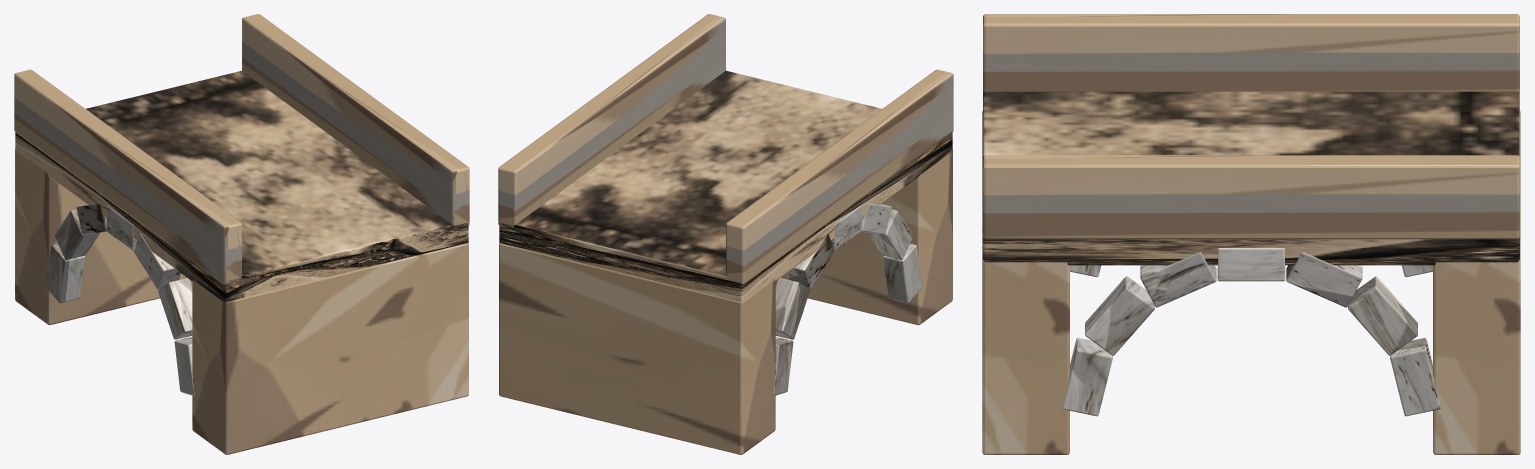
File: bridge_stone_6x4m_LOD1.glb
3 views of the same model, side by side, from view 1: azimuth 30°, elevation 25°; view 2: azimuth 150°, elevation 25°; view 3: azimuth 270°, elevation 25° (orthographic). The views are drawn at different scales.
Visible parts, largest first — view 1: LOD1_Deck, LOD1_Abutment, LOD1_Parapet, LOD1_Parapet.001, LOD1_Abutment.001, LOD1_Arch, LOD1_Arch.005, LOD1_Arch.001, LOD1_Arch.004, LOD1_Arch.006, LOD1_Arch.003, LOD1_Arch.002; view 2: LOD1_Deck, LOD1_Abutment.001, LOD1_Parapet, LOD1_Parapet.001, LOD1_Abutment, LOD1_Arch.006, LOD1_Arch.001, LOD1_Arch.005, LOD1_Arch.002, LOD1_Arch, LOD1_Arch.003, LOD1_Arch.004; view 3: LOD1_Deck, LOD1_Parapet.001, LOD1_Parapet, LOD1_Abutment, LOD1_Abutment.001, LOD1_Arch.008, LOD1_Arch.012, LOD1_Arch.007, LOD1_Arch.013, LOD1_Arch.009, LOD1_Arch.011, LOD1_Arch.010.
Boxes of the visible parts, x1,y1,x2,y2 form: LOD1_Deck: (15,70,468,302); LOD1_Abutment: (192,243,468,454); LOD1_Parapet: (14,69,241,284); LOD1_Parapet.001: (242,14,469,227); LOD1_Abutment.001: (15,149,192,325); LOD1_Arch: (45,243,85,303); LOD1_Arch.005: (158,278,192,339); LOD1_Arch.001: (54,209,99,260); LOD1_Arch.004: (134,233,180,289); LOD1_Arch.006: (174,336,194,395); LOD1_Arch.003: (106,206,136,250); LOD1_Arch.002: (76,203,106,234); LOD1_Deck: (499,70,952,303); LOD1_Abutment.001: (499,243,775,454); LOD1_Parapet: (726,69,953,284); LOD1_Parapet.001: (498,14,725,227); LOD1_Abutment: (775,149,952,325); LOD1_Arch.006: (882,243,922,303); LOD1_Arch.001: (775,278,809,339); LOD1_Arch.005: (868,209,913,260); LOD1_Arch.002: (787,233,833,289); LOD1_Arch: (773,336,793,395); LOD1_Arch.003: (831,206,861,250); LOD1_Arch.004: (861,203,891,234); LOD1_Deck: (983,91,1519,265); LOD1_Parapet.001: (983,155,1519,239); LOD1_Parapet: (983,14,1519,91); LOD1_Abutment: (982,111,1069,454); LOD1_Abutment.001: (1433,111,1520,454); LOD1_Arch.008: (1348,276,1417,355); LOD1_Arch.012: (1085,276,1154,355); LOD1_Arch.007: (1390,338,1440,416); LOD1_Arch.013: (1062,338,1112,416); LOD1_Arch.009: (1286,252,1362,307); LOD1_Arch.011: (1140,252,1216,307); LOD1_Arch.010: (1217,248,1285,281).
Bounding box in the file's own units: 4.04 × 3.59 × 6.02.
3 materials, 3 textured.
